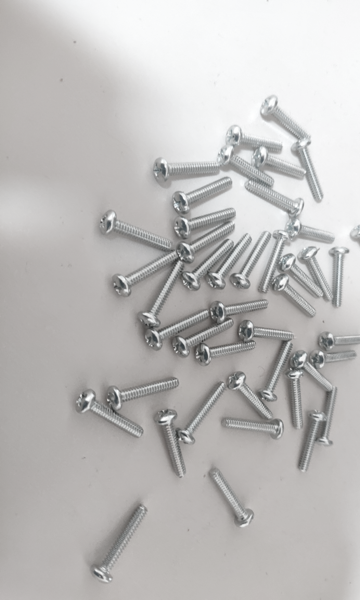longscrew: (96, 502, 148, 581), (73, 389, 145, 442), (114, 248, 177, 295), (179, 382, 226, 445), (107, 370, 178, 410), (142, 304, 208, 347), (209, 469, 256, 528), (206, 233, 255, 289), (141, 264, 184, 326), (100, 213, 170, 251), (184, 236, 234, 289), (231, 232, 273, 294), (174, 315, 236, 353), (180, 221, 236, 263), (261, 99, 315, 140), (258, 232, 291, 297), (155, 410, 185, 481), (221, 148, 276, 186), (175, 174, 231, 211), (263, 341, 299, 398), (292, 140, 325, 200), (228, 372, 272, 417), (297, 408, 327, 473), (245, 180, 302, 214), (281, 255, 325, 299), (302, 247, 335, 305), (154, 155, 219, 184), (219, 127, 288, 153), (293, 350, 331, 397), (275, 276, 315, 320), (256, 148, 306, 183), (209, 295, 270, 322), (195, 339, 257, 365), (317, 388, 343, 447), (174, 210, 237, 234), (222, 417, 282, 438), (332, 248, 352, 309), (287, 370, 305, 433), (312, 345, 358, 369), (319, 329, 360, 350), (288, 223, 336, 240), (239, 327, 295, 341), (354, 227, 360, 271)
